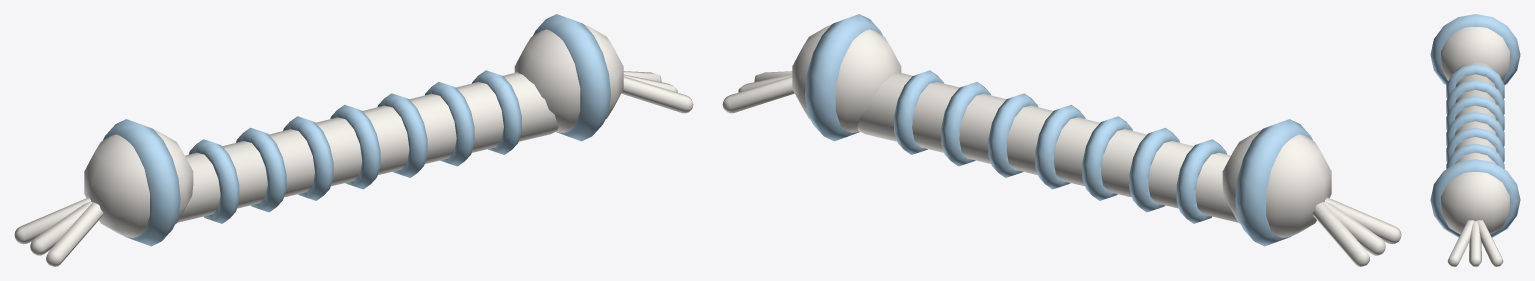
Rendered from companion-animals-and-pet-home-rope-toy-c410bc84__20651.glb.
3 views of the same model, side by side, from view 1: azimuth 30°, elevation 25°; view 2: azimuth 150°, elevation 25°; view 3: azimuth 270°, elevation 25° (orthographic). The views are drawn at different scales.
Visible parts, largest first — view 1: rope-toy; view 2: rope-toy; view 3: rope-toy.
Part boxes in pixels (x1,y1,x2,y2): rope-toy: (14, 14, 693, 266); rope-toy: (722, 14, 1401, 266); rope-toy: (1430, 14, 1520, 266).
Size of the model in its own units: 0.4798 by 0.084 by 0.084.
